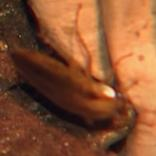cockroach: (7, 47, 128, 125)
